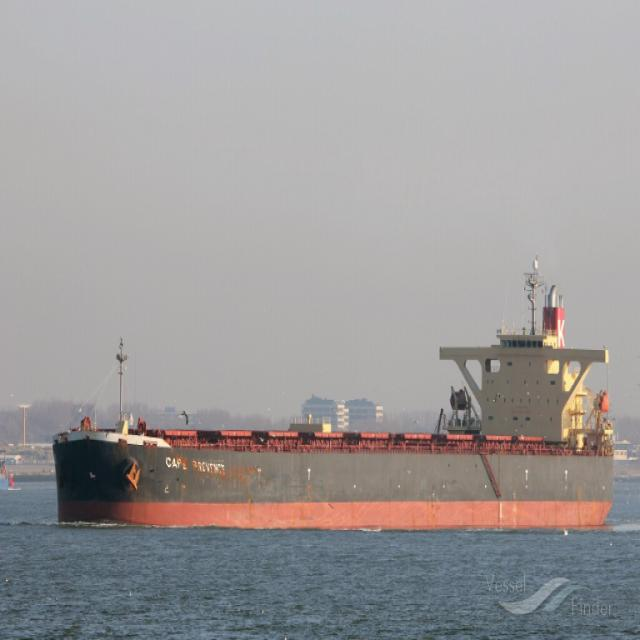OCR: (160, 453, 229, 476)
